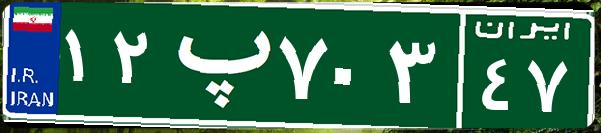0: (330, 28, 385, 110)
1: (57, 26, 110, 107)
2: (110, 28, 158, 105)
3: (385, 28, 445, 110)
4: (475, 38, 525, 113)
7: (273, 28, 330, 110), (525, 38, 570, 115)
پ: (158, 15, 273, 115)
